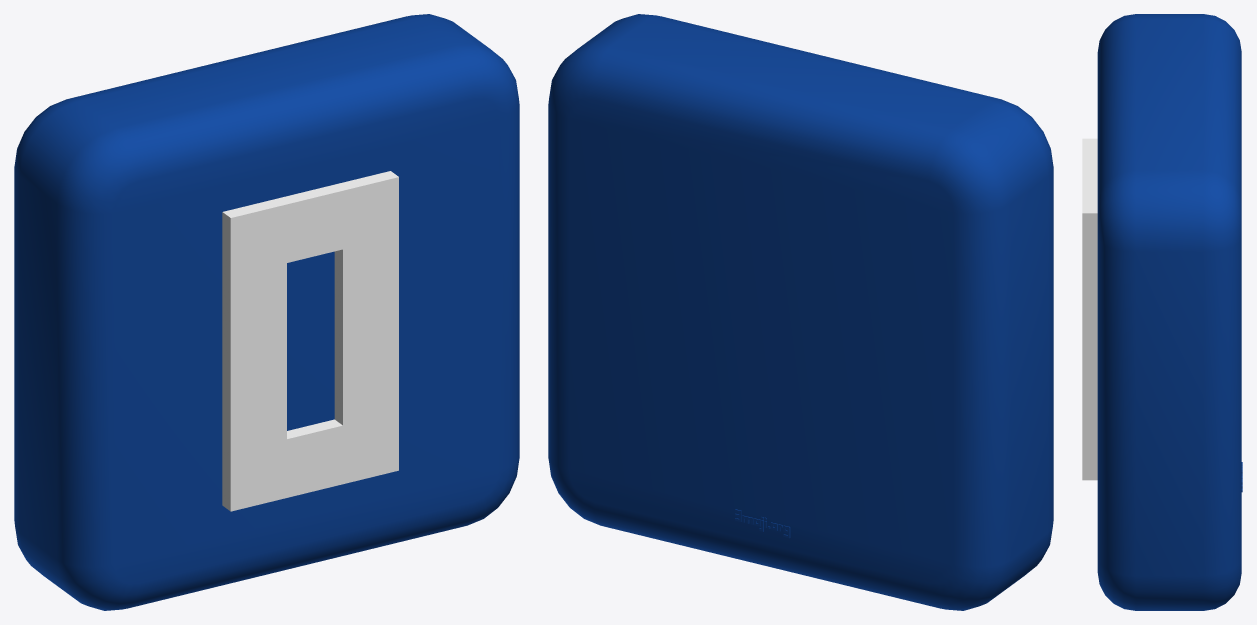
The model's file is keycap_0.fbx.
3 renders of one model, left to right at view 1: azimuth 30°, elevation 25°; view 2: azimuth 150°, elevation 25°; view 3: azimuth 270°, elevation 25°, orthographic. The views are drawn at different scales.
Visible parts, largest first — view 1: Cube.6672; view 2: Cube.6672; view 3: Cube.6672.
Boxes of the visible parts, x1,y1,x2,y2 form: Cube.6672: (14,14,519,610); Cube.6672: (548,14,1053,610); Cube.6672: (1082,14,1242,610).
Size of the model in its own units: 220 by 220 by 73.37.
Materials: 1 (1 with a texture image).
